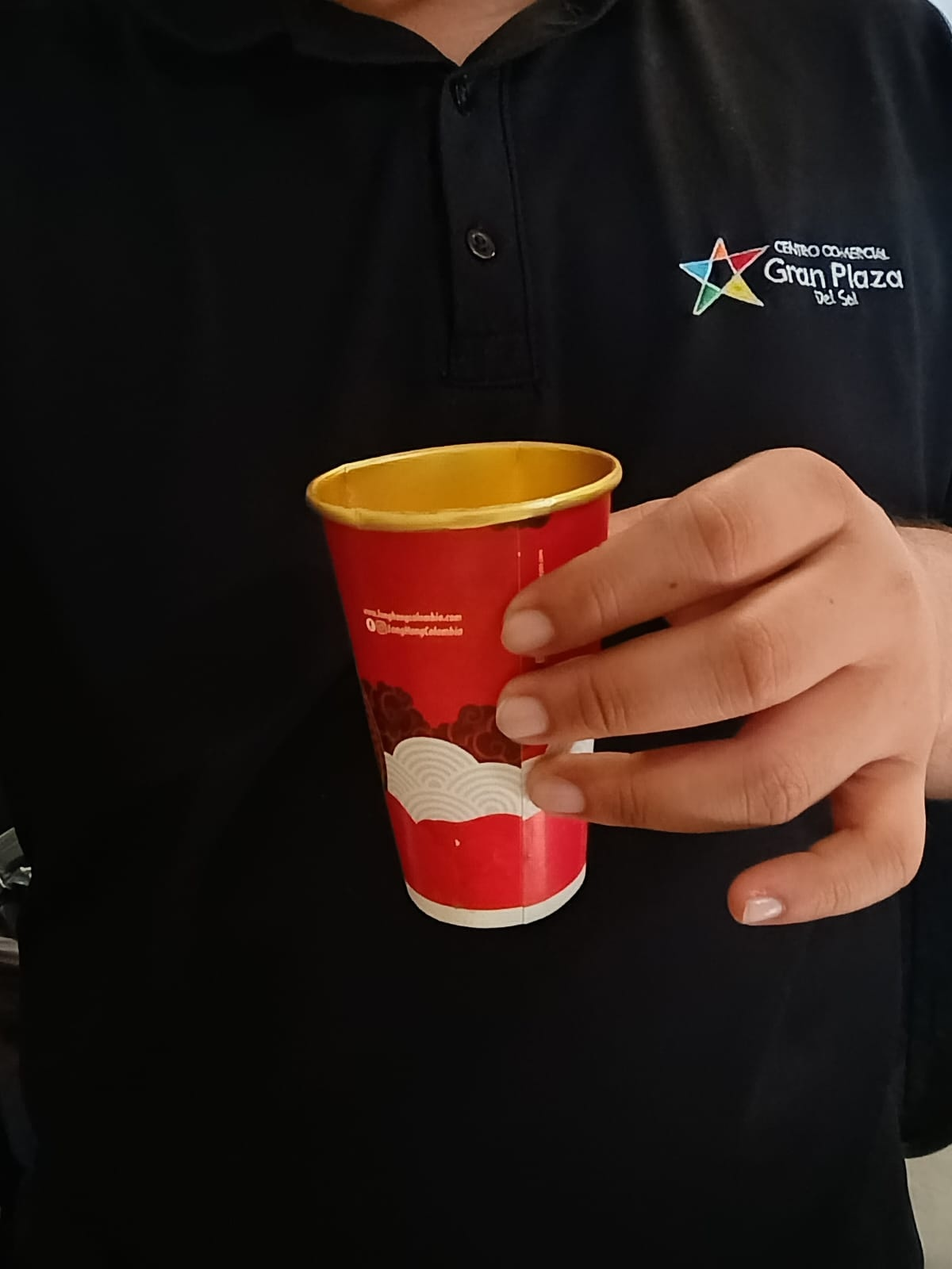Carton: (304, 442, 620, 929)
